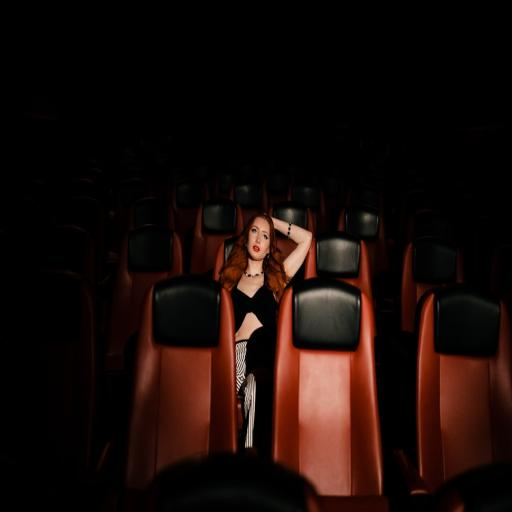face: (247, 217, 270, 260)
